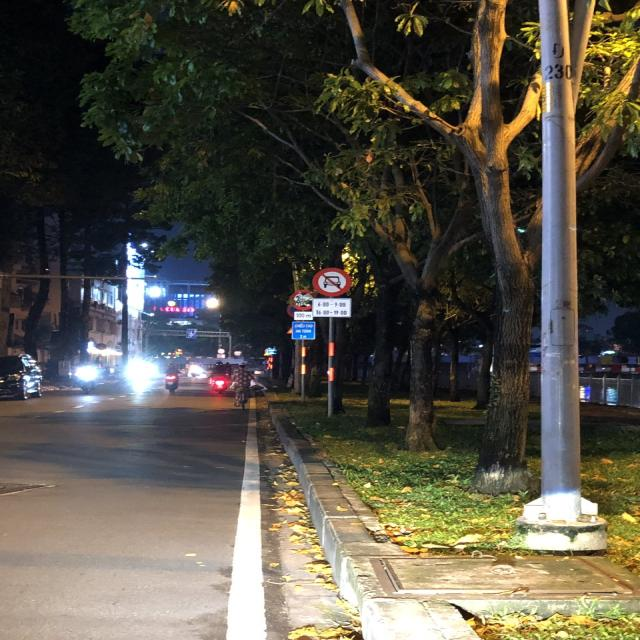Bien bao cam xe oto: (308, 265, 355, 297)
